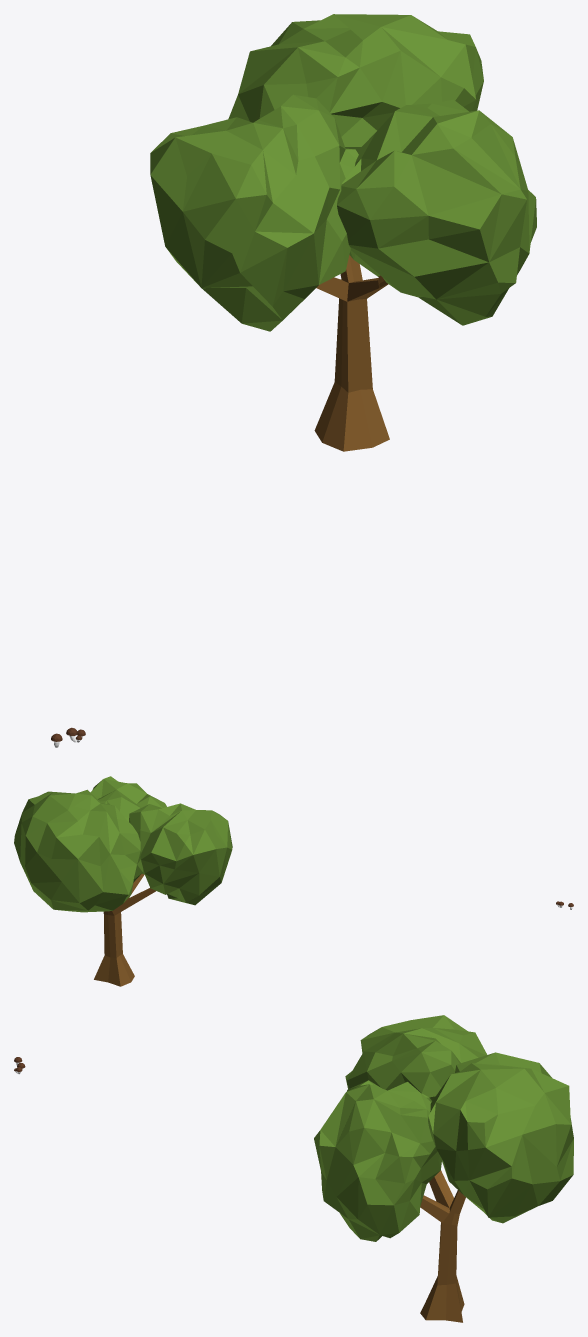
Rendered from tree2.obj.
The picture shows the model from 3 angles, top to bottom: view 1: azimuth 30°, elevation 25°; view 2: azimuth 150°, elevation 25°; view 3: azimuth 270°, elevation 25°; orthographic projection. The views are drawn at different scales.
Visible parts, largest first — view 1: Tree_average_lush_Cube.004; view 2: Tree_average_lush_Cube.004; view 3: Tree_average_lush_Cube.004.
Part boxes in pixels (bbox=[...]): Tree_average_lush_Cube.004: bbox=[150, 14, 536, 451]; Tree_average_lush_Cube.004: bbox=[14, 776, 232, 986]; Tree_average_lush_Cube.004: bbox=[314, 1015, 573, 1322].
Size of the model in its own units: 31.26 by 14.66 by 28.5.
